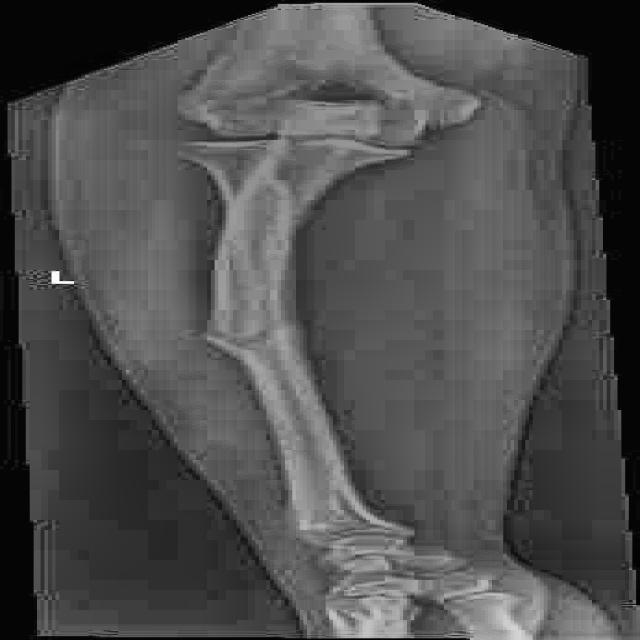forearm fracture: (152, 319, 356, 382)
